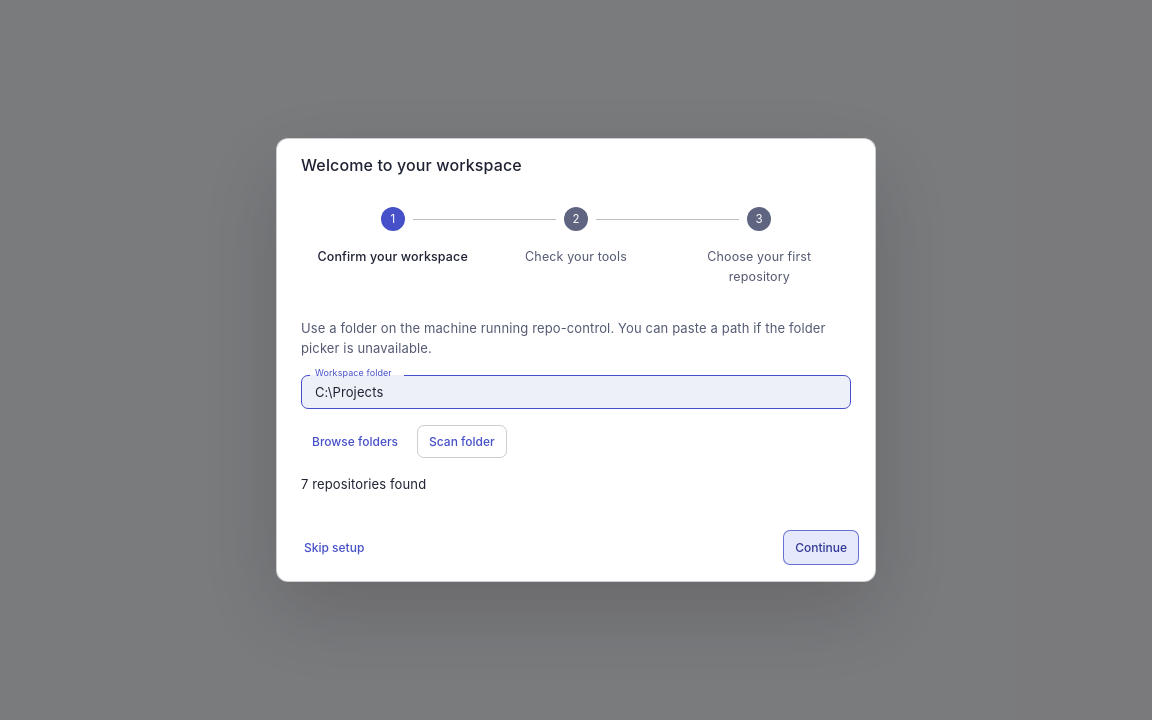
Test: keeps the entered path and explains a failed scan
Click the button "Scan folder": click(462, 442) [417,425,507,458]
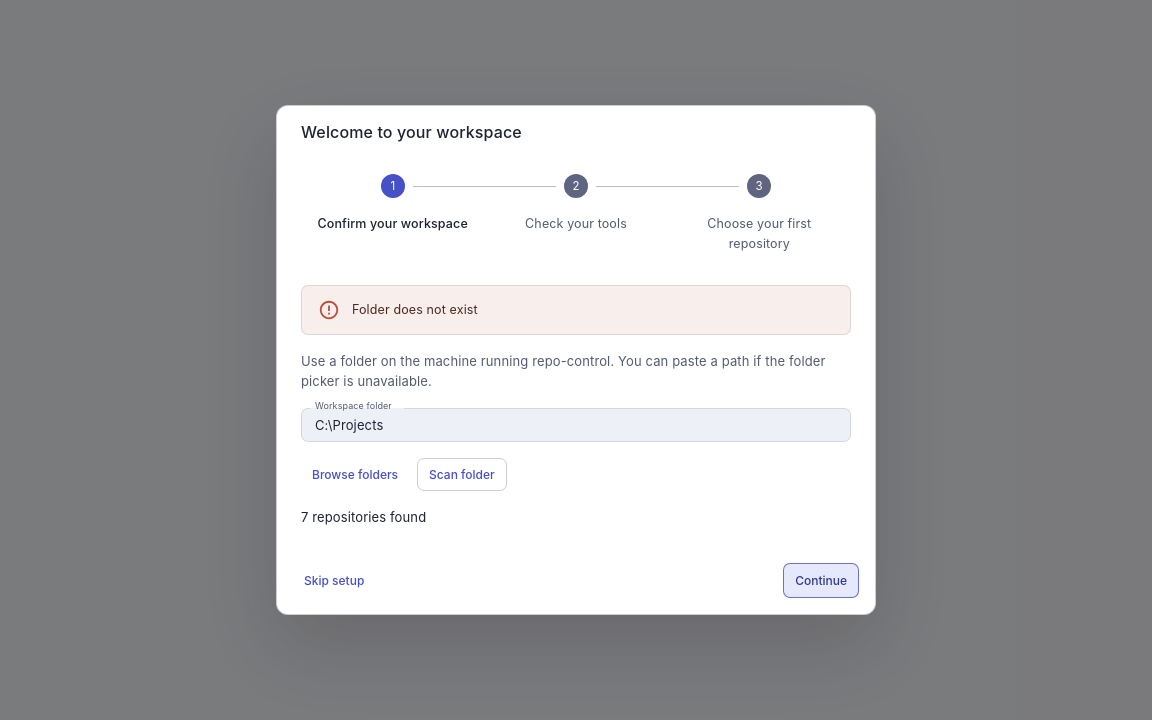
Expected: the field labelled "Workspace folder" holds "C:\\Projects", [301,408,851,442]
Expected: the text "Folder does not exist" is shown, [352,302,478,317]
